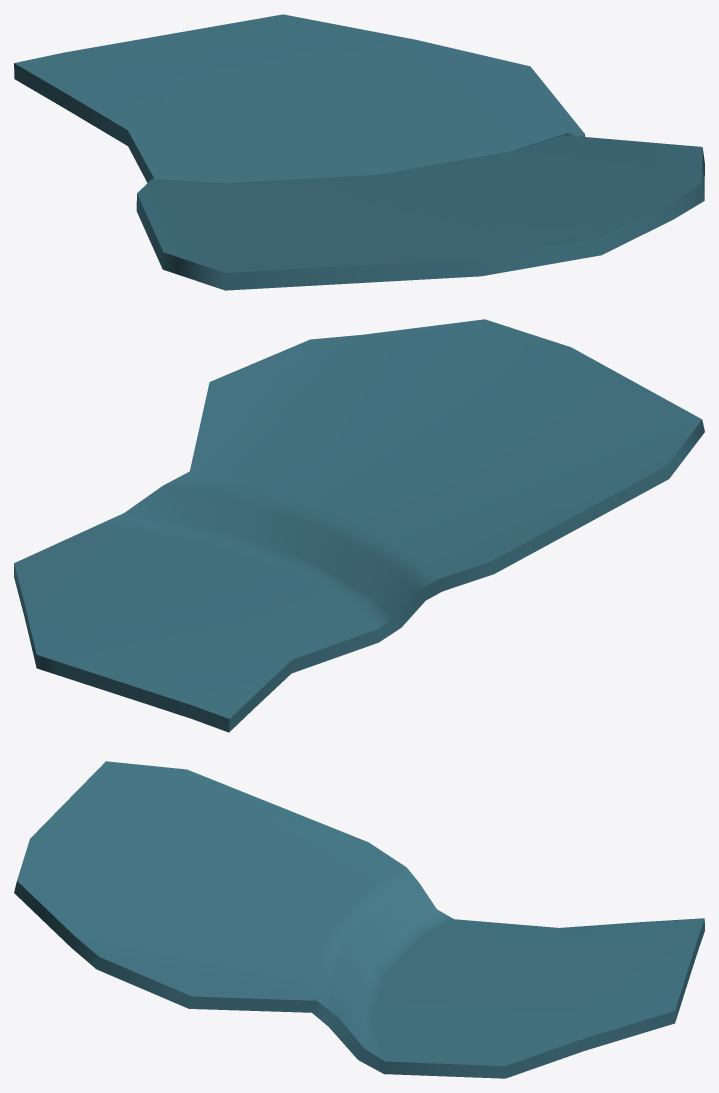
The model's file is SM_SmallTrashkit_Plat3_004.fbx.
3 views of the same model, one above another, from view 1: azimuth 30°, elevation 25°; view 2: azimuth 150°, elevation 25°; view 3: azimuth 270°, elevation 25° (orthographic). The views are drawn at different scales.
Parts seen in each view (by area): view 1: SM_SmallTrashkit_Plat3_004; view 2: SM_SmallTrashkit_Plat3_004; view 3: SM_SmallTrashkit_Plat3_004.
Boxes of the visible parts, bbox=[...] form: SM_SmallTrashkit_Plat3_004: bbox=[14, 14, 704, 290]; SM_SmallTrashkit_Plat3_004: bbox=[14, 319, 704, 732]; SM_SmallTrashkit_Plat3_004: bbox=[14, 761, 704, 1078].
Size of the model in its own units: 14.51 by 3.41 by 19.56.
